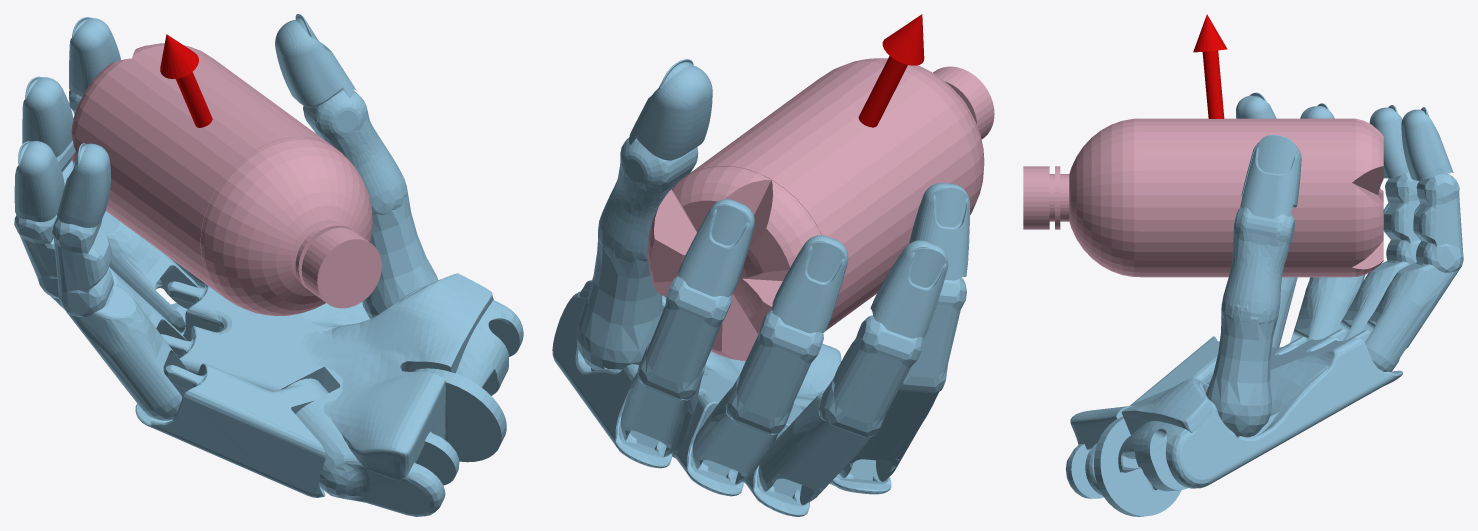
The picture shows the model from 3 angles, left to right: view 1: azimuth 30°, elevation 25°; view 2: azimuth 150°, elevation 25°; view 3: azimuth 270°, elevation 25°; orthographic projection. The views are drawn at different scales.
Visible parts, largest first — view 1: world, water_bottle.stl; view 2: world, water_bottle.stl; view 3: world, water_bottle.stl.
Part boxes in pixels (x1,y1,x2,y2): world: (14,14,523,516); water_bottle.stl: (71,43,381,315); world: (552,14,969,516); water_bottle.stl: (647,58,994,361); world: (1065,14,1463,516); water_bottle.stl: (1023,118,1383,277).
Size of the model in its own units: 0.1588 by 0.1704 by 0.1668.
